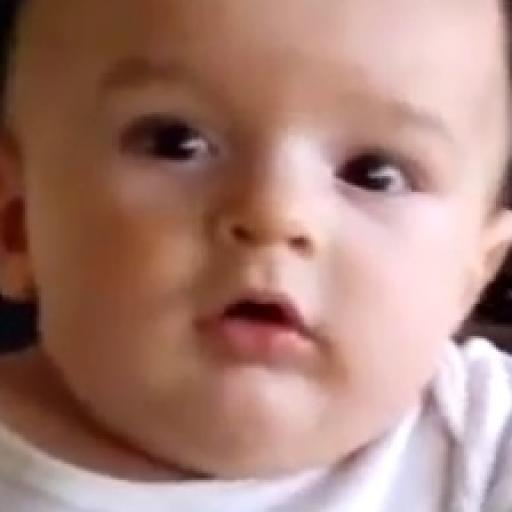Autism: (18, 7, 512, 466)
